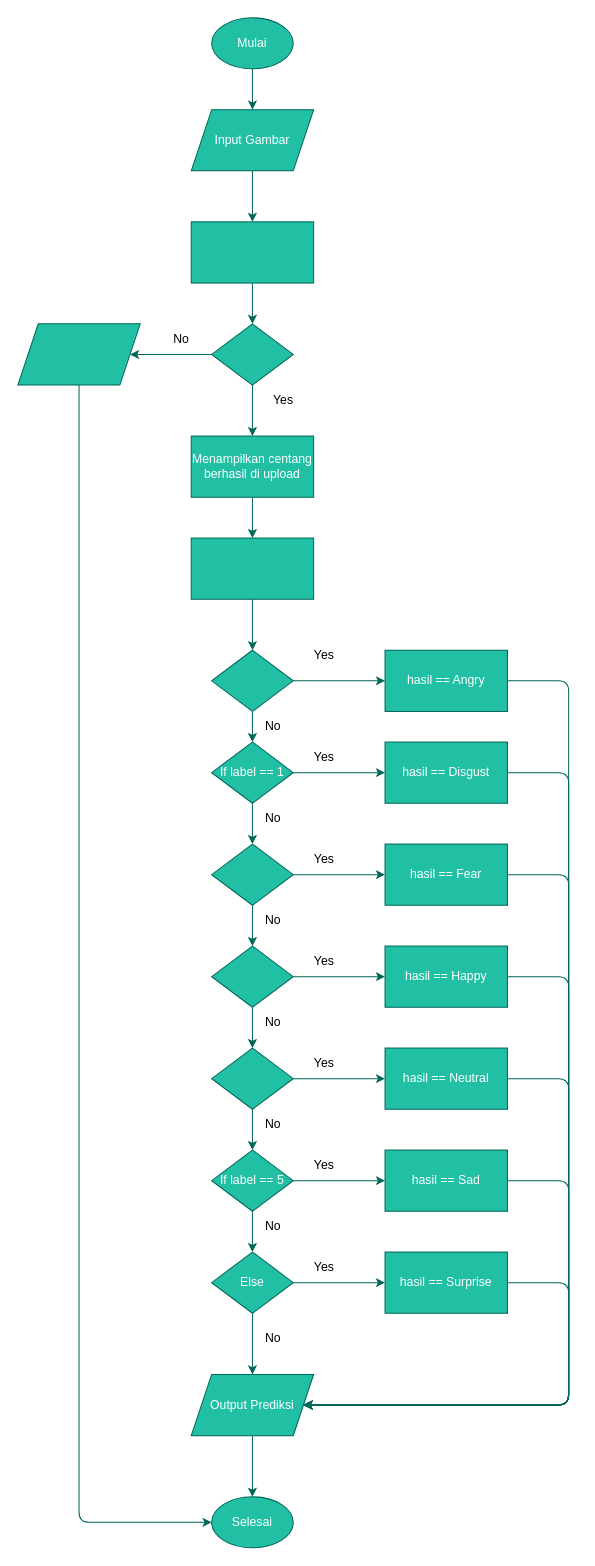
Some shapes in this 595 by 1566 pixel diagram are drawn without their labels. The shapes that lost their labels are listed below. From the top down, each one's box as (x1, y1, x2, y2) in pixels, then its label:
(190, 221, 314, 283): Proses gambar di sistem
(17, 323, 140, 385): Output Error
(211, 323, 293, 385): Gambar?
(190, 537, 314, 599): Menekan tombol "submit"
(211, 649, 293, 711): If label == 0
(211, 843, 293, 905): If label == 2
(211, 945, 293, 1007): If label == 3
(211, 1047, 293, 1109): If label == 4
